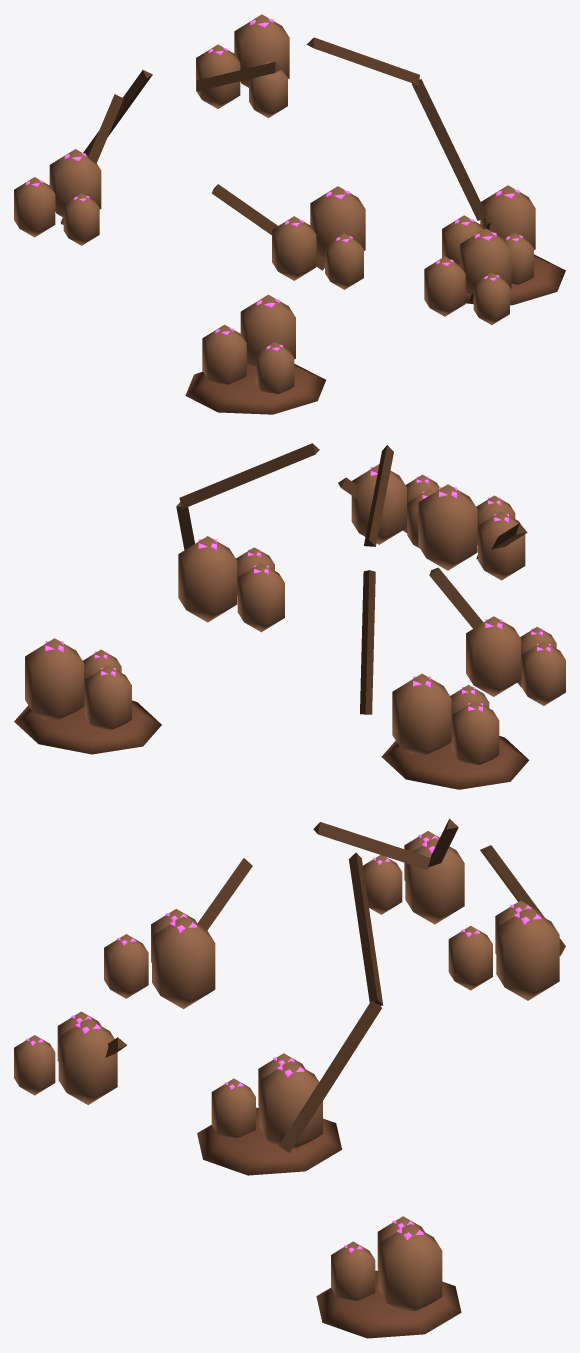
The model's file is overworld-settlement-eggs-african-city.glb.
3 renders of one model, top to bottom at view 1: azimuth 30°, elevation 25°; view 2: azimuth 150°, elevation 25°; view 3: azimuth 270°, elevation 25°, orthographic. The views are drawn at different scales.
Parts seen in each view (by area): view 1: settlement_eggs; view 2: settlement_eggs; view 3: settlement_eggs.
Part boxes in pixels (box(x1,y1,x2,y2)): settlement_eggs: box(14, 14, 565, 414); settlement_eggs: box(14, 443, 565, 789); settlement_eggs: box(14, 818, 565, 1338).
Bounding box in the file's own units: 0.546 × 0.2991 × 0.4363.
